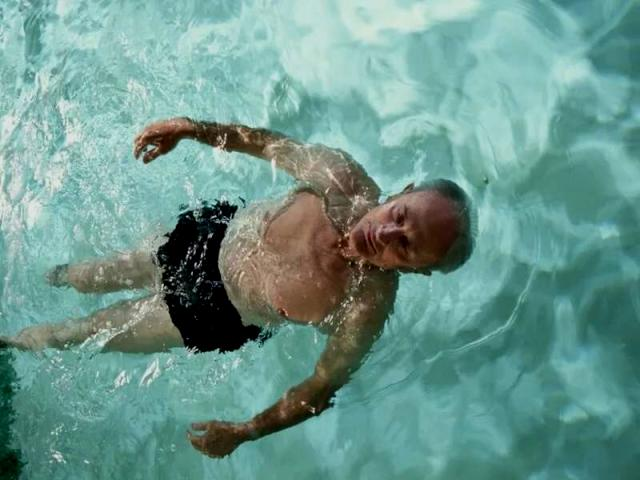drowning: (8, 112, 477, 461)
